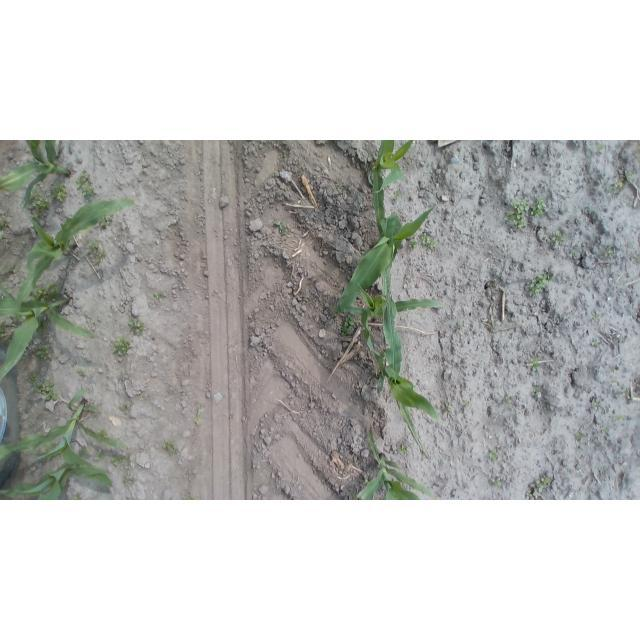Maize: (15, 198, 137, 323), (334, 189, 441, 326), (367, 265, 442, 455), (0, 389, 124, 487), (1, 284, 99, 385), (337, 286, 444, 377), (353, 425, 437, 499), (0, 444, 110, 498), (368, 141, 419, 244), (1, 140, 74, 210)
Weeds: (503, 198, 531, 230), (30, 186, 51, 218), (31, 283, 61, 304), (527, 274, 552, 297), (77, 171, 96, 199), (34, 380, 59, 401), (109, 336, 133, 357), (86, 240, 107, 263), (340, 314, 357, 339), (127, 318, 146, 337), (52, 182, 68, 203), (531, 197, 546, 218), (111, 452, 132, 467), (418, 232, 436, 249), (162, 439, 179, 456), (35, 317, 49, 337), (610, 178, 626, 195), (550, 230, 566, 247), (43, 442, 58, 460), (36, 344, 52, 360), (273, 219, 288, 236), (528, 357, 540, 374), (193, 407, 204, 425), (7, 261, 21, 275), (531, 480, 546, 493), (488, 448, 501, 462), (121, 474, 135, 487), (27, 372, 37, 389), (539, 476, 552, 489), (96, 428, 110, 440), (441, 402, 453, 414), (99, 216, 111, 228), (153, 291, 166, 302), (604, 246, 615, 259), (94, 451, 107, 462), (119, 401, 130, 413), (398, 443, 409, 455), (70, 491, 86, 499), (1, 217, 10, 231), (613, 413, 624, 424), (490, 477, 502, 487), (594, 144, 607, 153), (590, 339, 603, 348), (591, 313, 601, 324), (531, 387, 541, 398), (575, 431, 585, 442), (409, 238, 419, 249), (569, 250, 579, 261), (593, 398, 602, 410), (526, 490, 538, 498), (394, 191, 403, 201), (625, 171, 633, 182), (184, 493, 196, 500), (504, 395, 513, 404), (600, 427, 609, 436), (76, 368, 86, 376), (622, 388, 630, 398), (339, 185, 346, 196), (350, 492, 359, 500), (462, 400, 471, 408), (455, 321, 463, 330), (609, 377, 619, 384), (2, 336, 10, 344), (633, 254, 640, 263), (611, 366, 619, 373), (21, 353, 27, 360), (70, 361, 76, 367), (0, 325, 4, 334), (0, 232, 4, 239), (364, 480, 369, 485)
